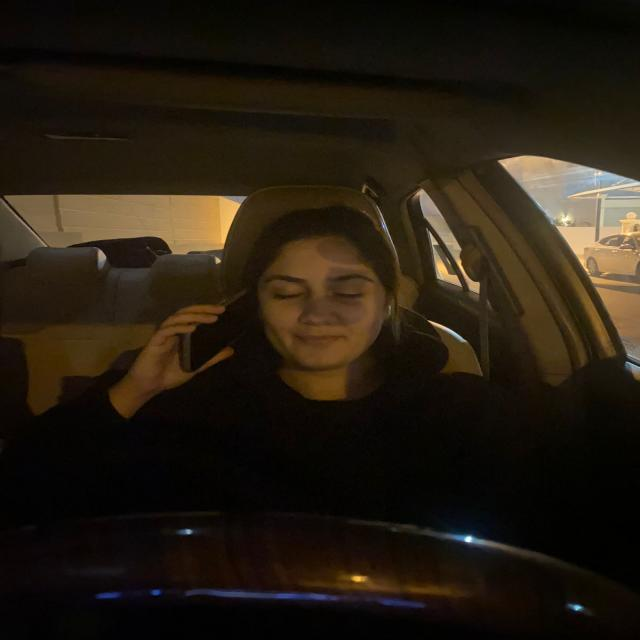mobile: (178, 283, 246, 381)
person: (260, 218, 389, 369)
